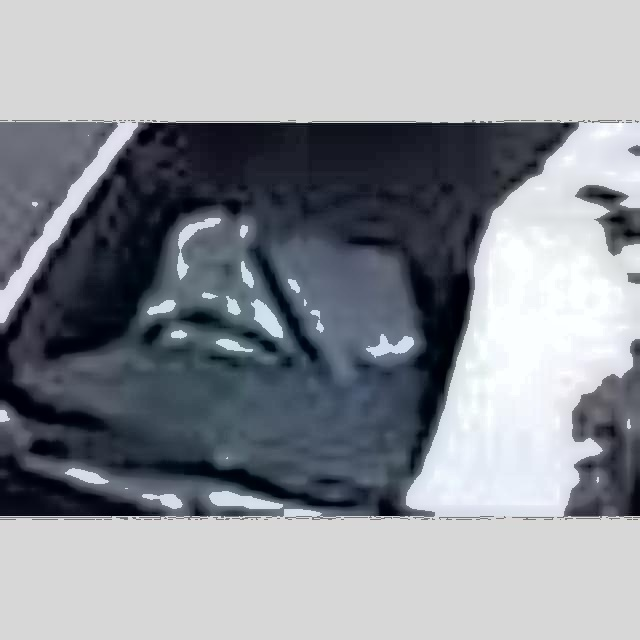pakai: (147, 192, 432, 401)
